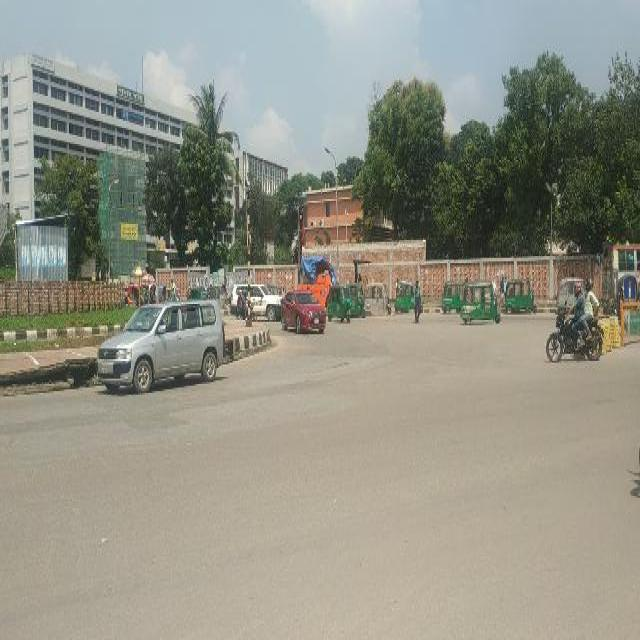car: (94, 302, 228, 395)
motorbike: (546, 304, 602, 364), (235, 300, 257, 322)
rickshaw: (616, 272, 634, 308)
suv: (282, 288, 326, 334), (252, 282, 280, 322)
three wheelers -CNG-: (461, 279, 501, 325), (504, 274, 538, 316), (394, 281, 424, 313), (326, 282, 350, 322), (364, 282, 392, 316), (439, 279, 461, 315), (347, 282, 365, 316), (209, 284, 227, 310), (186, 286, 206, 297)
